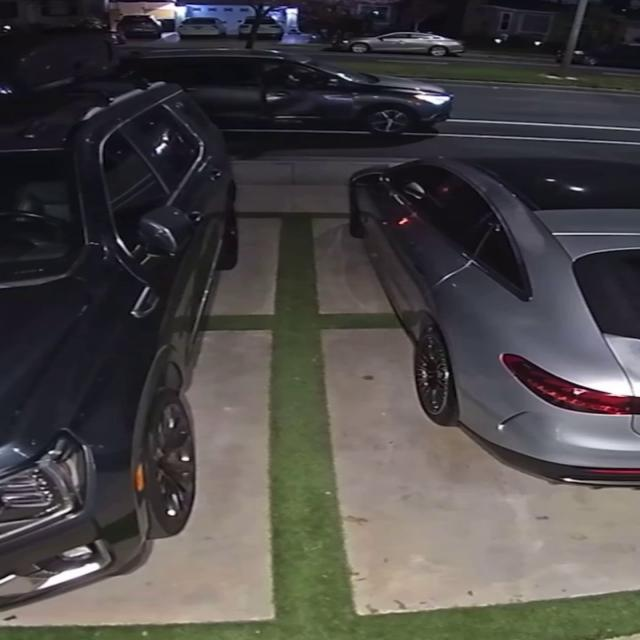Theft - Alert: (349, 157, 639, 490), (134, 50, 453, 146), (113, 214, 198, 282)
